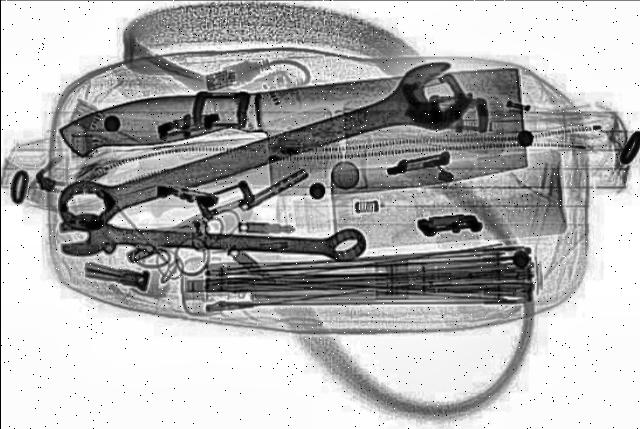Gun: (54, 61, 546, 221)
Wrench: (33, 57, 495, 242), (58, 214, 368, 267)
